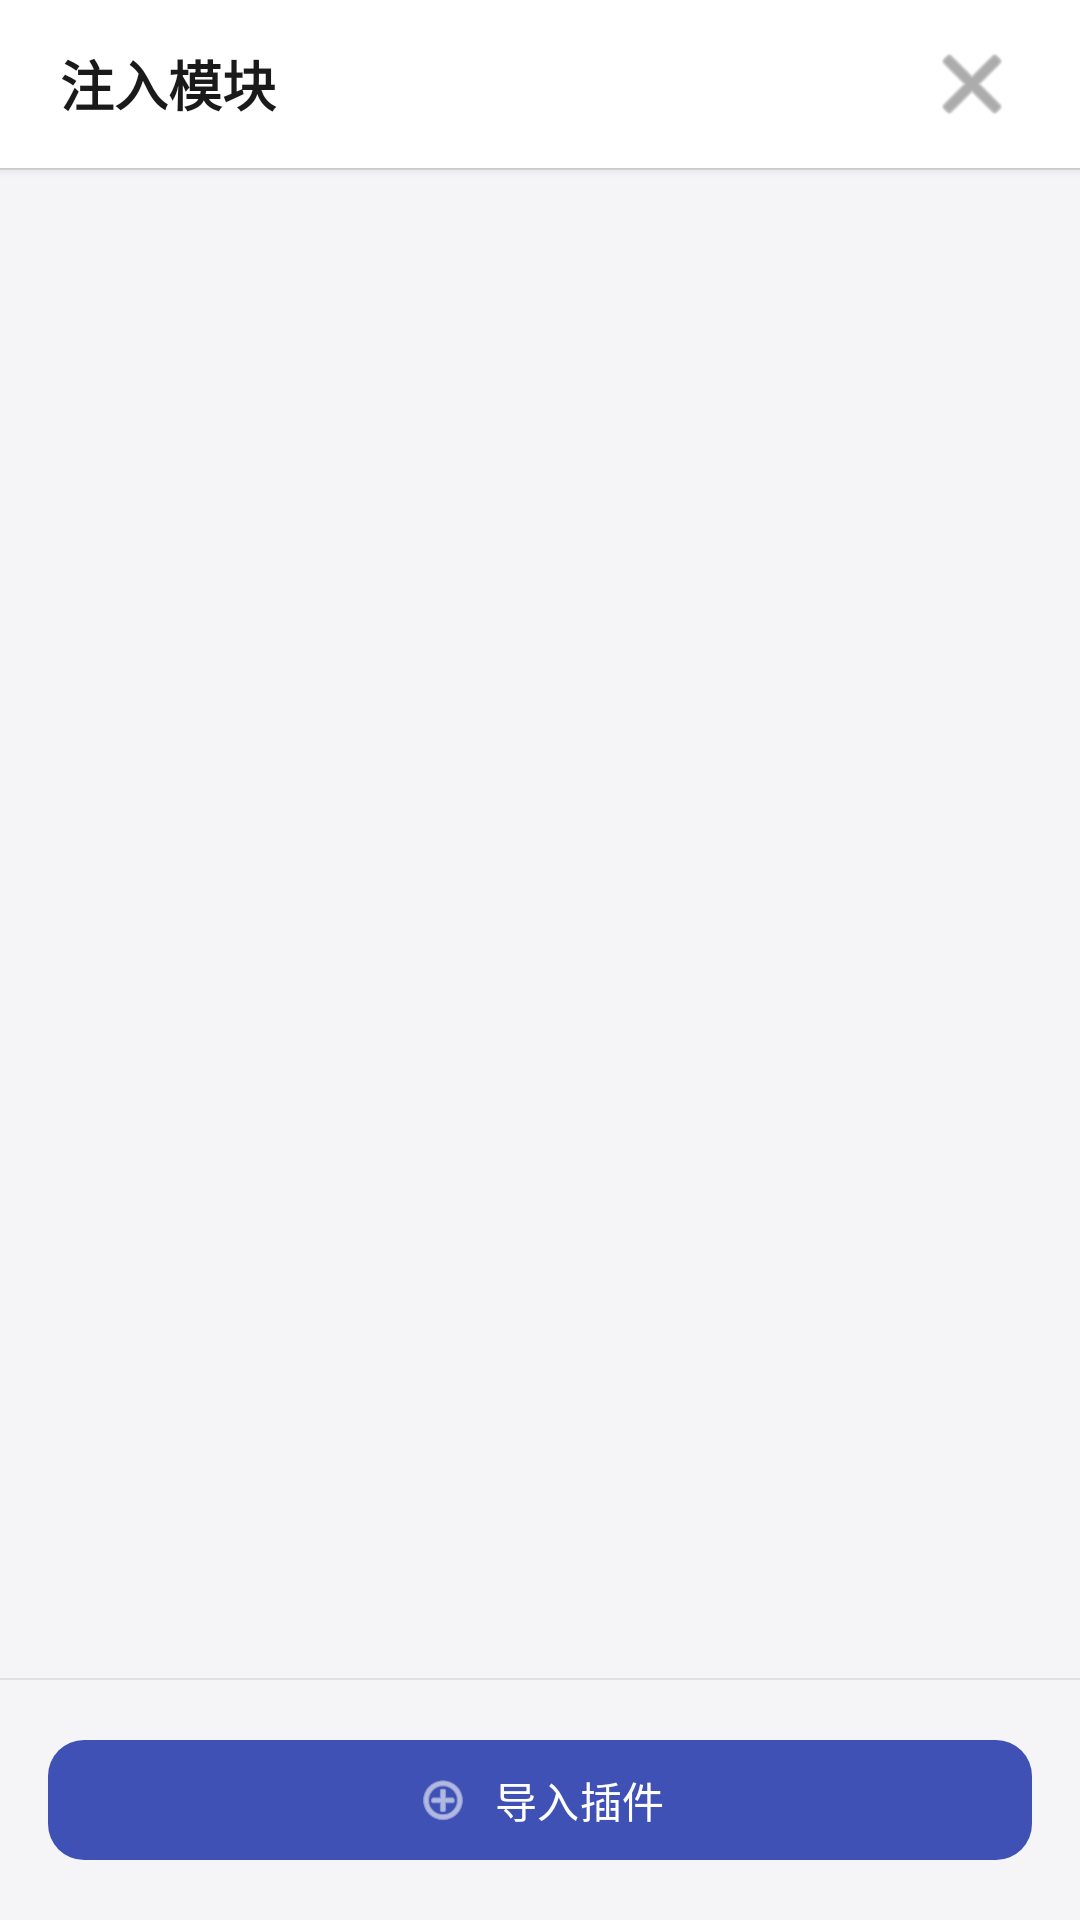

Where to tap for icons on this 1080*1920 app screen, as (x=x, y=y):
取消: (x=972, y=84)
